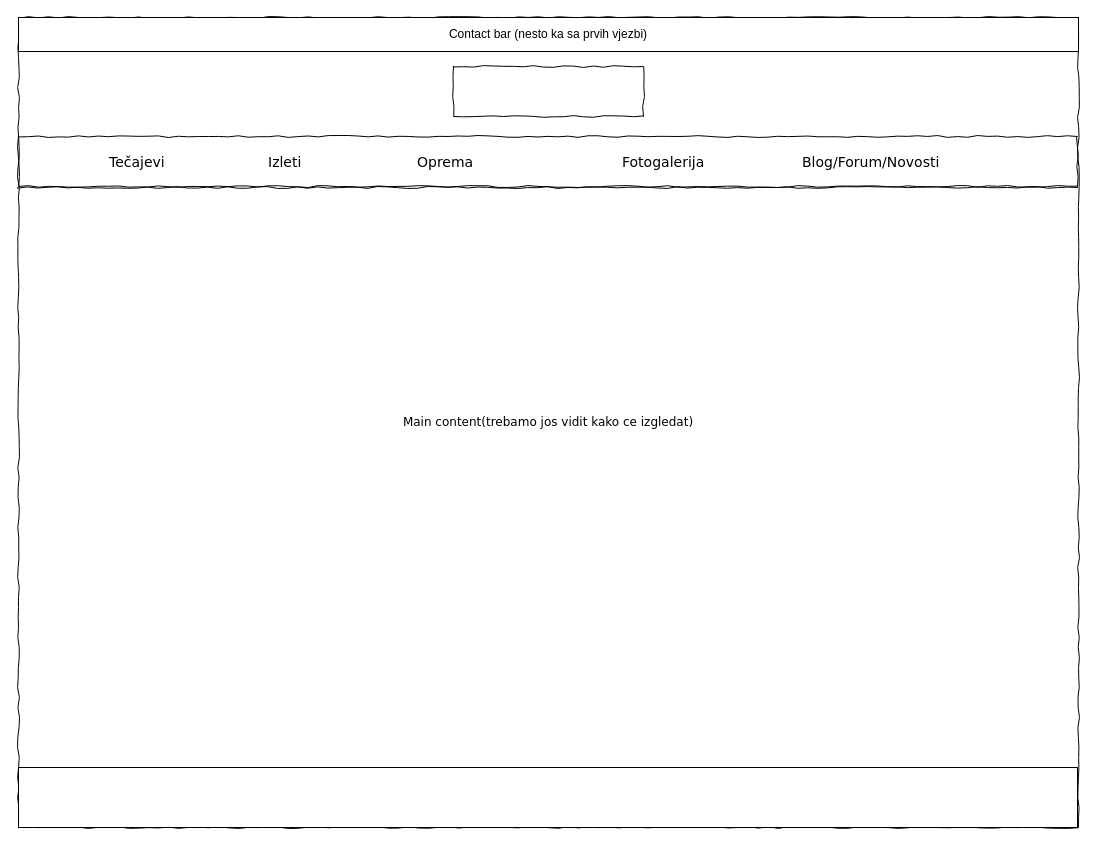
Some shapes in this 1096 by 845 pixel diagram are drawn without their labels. The shapes that lost their labels are listed below. From the top down, each one's centre as x and y in pixels, then its label:
point (548, 91): LOGO
point (548, 797): Footer
